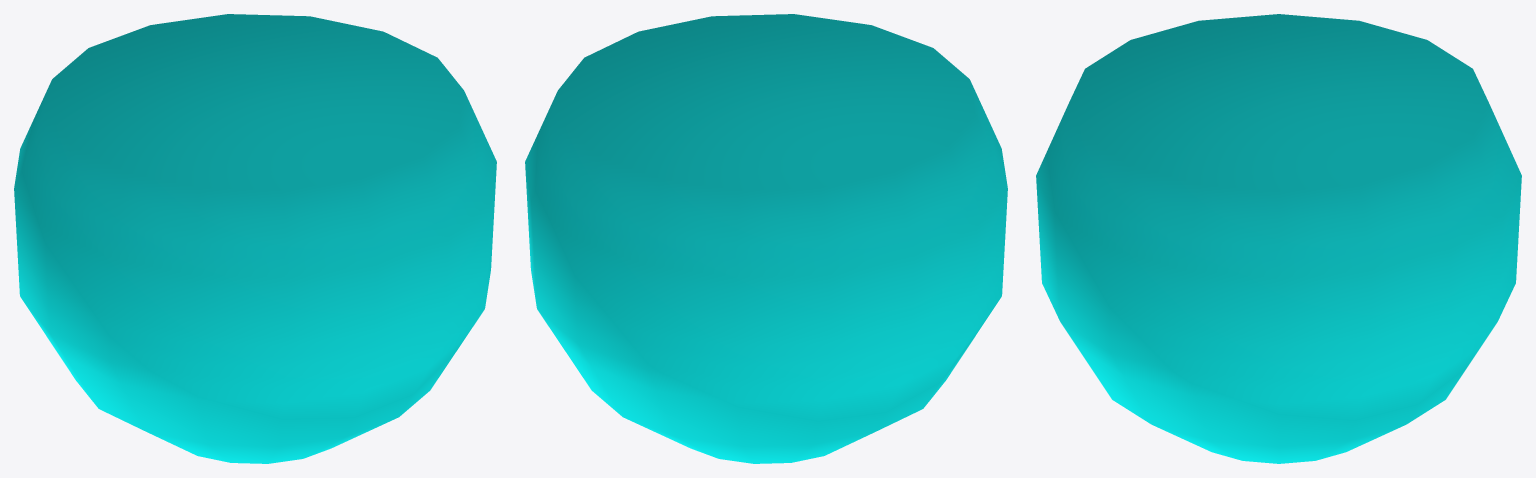
The model's file is WaterDrop_50.glb.
3 renders of one model, left to right at view 1: azimuth 30°, elevation 25°; view 2: azimuth 150°, elevation 25°; view 3: azimuth 270°, elevation 25°, orthographic.
Visible parts, largest first — view 1: WaterDrop_50; view 2: WaterDrop_50; view 3: WaterDrop_50.
Part boxes in pixels (bbox=[...]): WaterDrop_50: bbox=[14, 14, 496, 463]; WaterDrop_50: bbox=[525, 14, 1007, 463]; WaterDrop_50: bbox=[1036, 14, 1521, 463].
Bounding box in the file's own units: 0.5885 × 0.4439 × 0.5885.
Materials: 1 (1 with a texture image).
